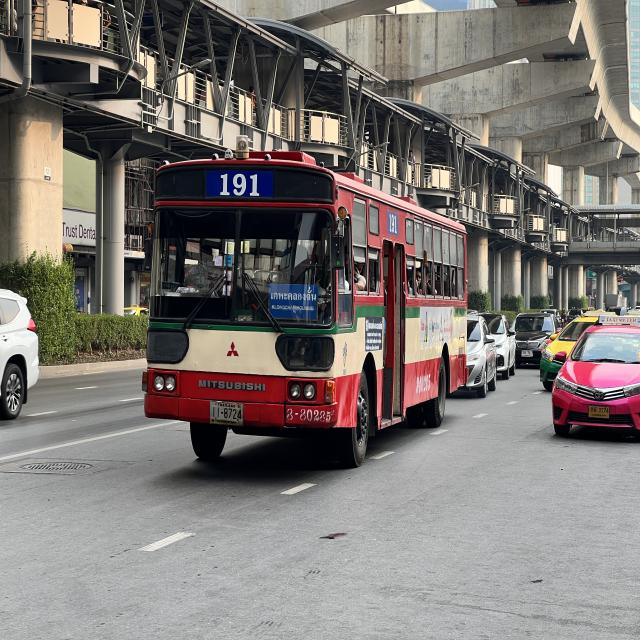BMTA-bus: (138, 132, 472, 472)
Bus-Line-Number: (214, 173, 264, 199)
Destination-Sign-Normal: (269, 284, 320, 323)
